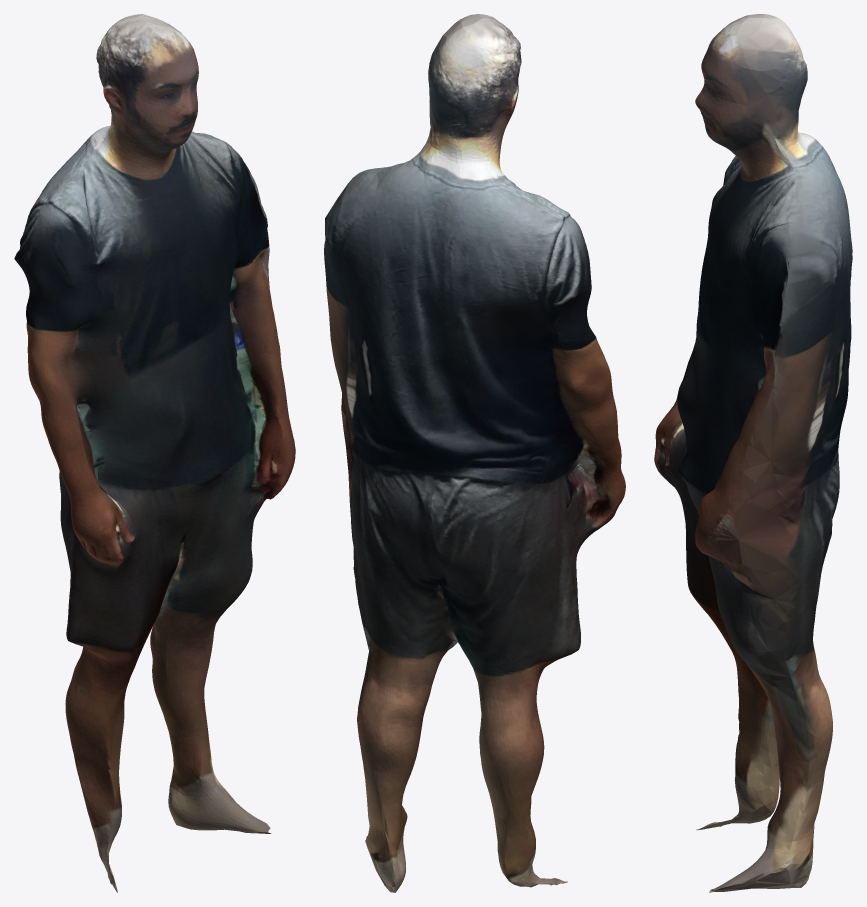
The picture shows the model from 3 angles, left to right: view 1: azimuth 30°, elevation 25°; view 2: azimuth 150°, elevation 25°; view 3: azimuth 270°, elevation 25°; orthographic projection. The views are drawn at different scales.
Size of the model in its own units: 0.4328 by 1.37 by 0.293.
Materials: 1 (1 with a texture image).
